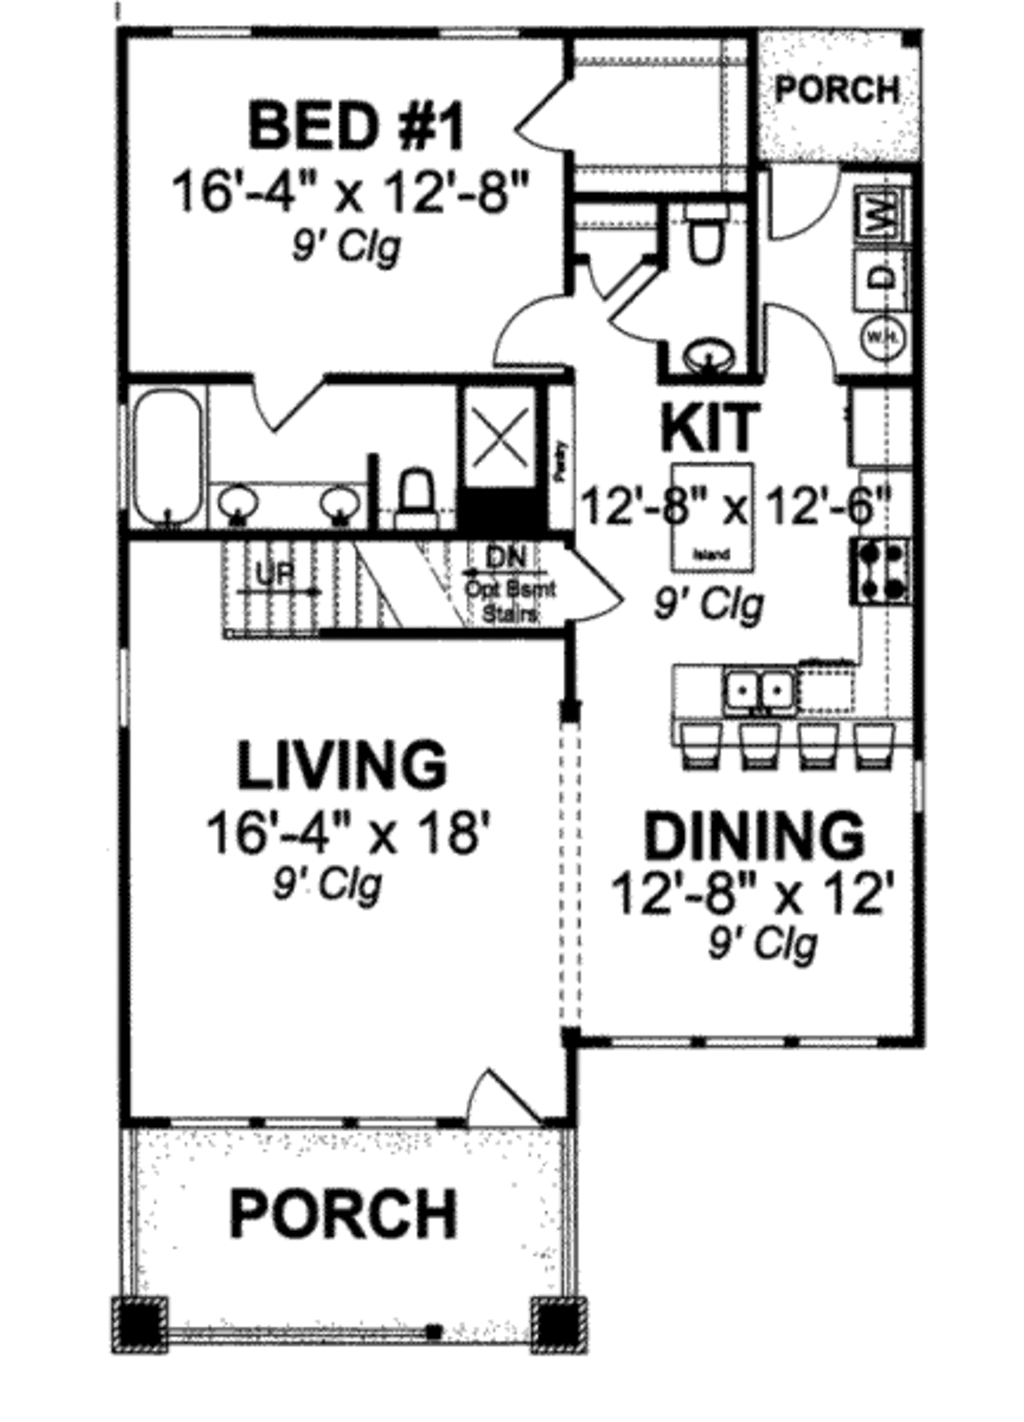door: (759, 149, 844, 254), (457, 1054, 557, 1140), (755, 280, 842, 378), (244, 347, 330, 443), (557, 534, 626, 632), (495, 283, 573, 363), (610, 267, 675, 351), (518, 74, 586, 153), (582, 247, 639, 296)
kitchen_bar: (653, 640, 922, 785)
large_sink: (682, 194, 735, 274), (393, 460, 450, 531)
small_sink: (207, 482, 378, 534), (675, 331, 748, 385)
stairs: (215, 540, 548, 638)
tub: (115, 383, 213, 545)
twin_sink: (710, 660, 813, 718)
window: (606, 1020, 879, 1051), (154, 1116, 457, 1136), (154, 18, 273, 51), (106, 649, 148, 731), (442, 15, 535, 45)
